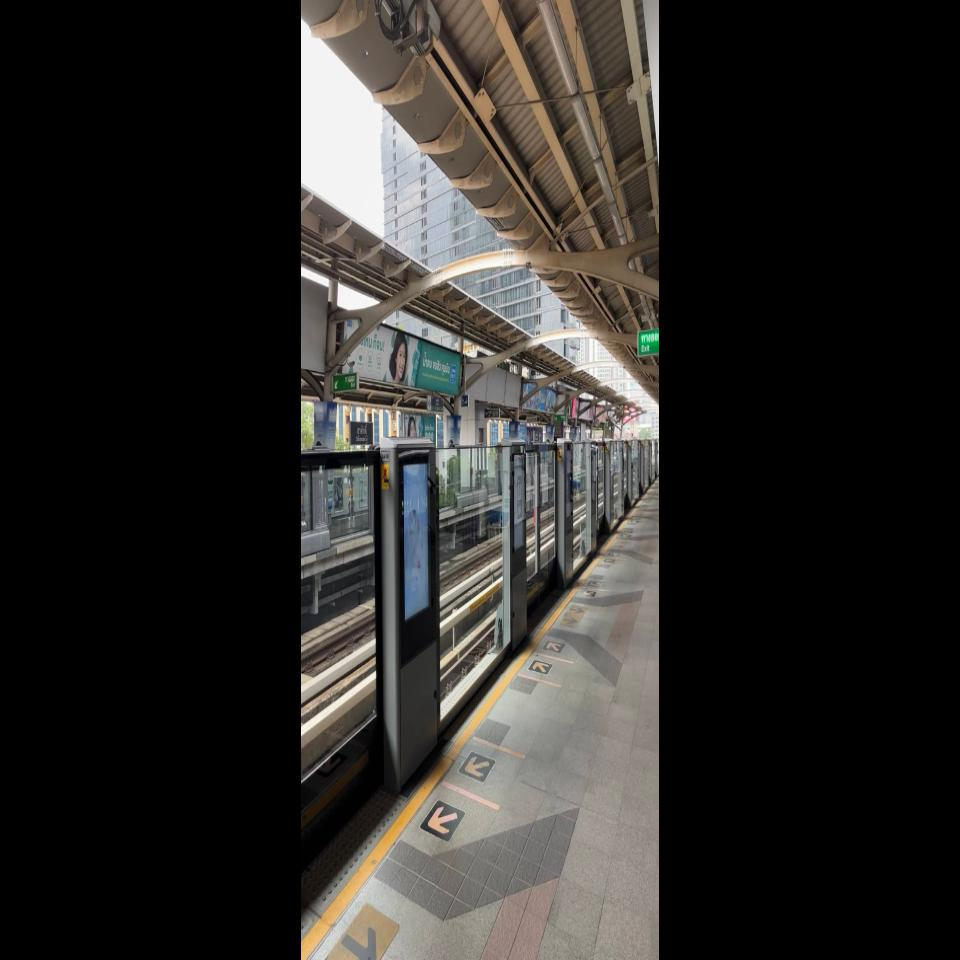Surasak: (350, 421, 373, 446)
